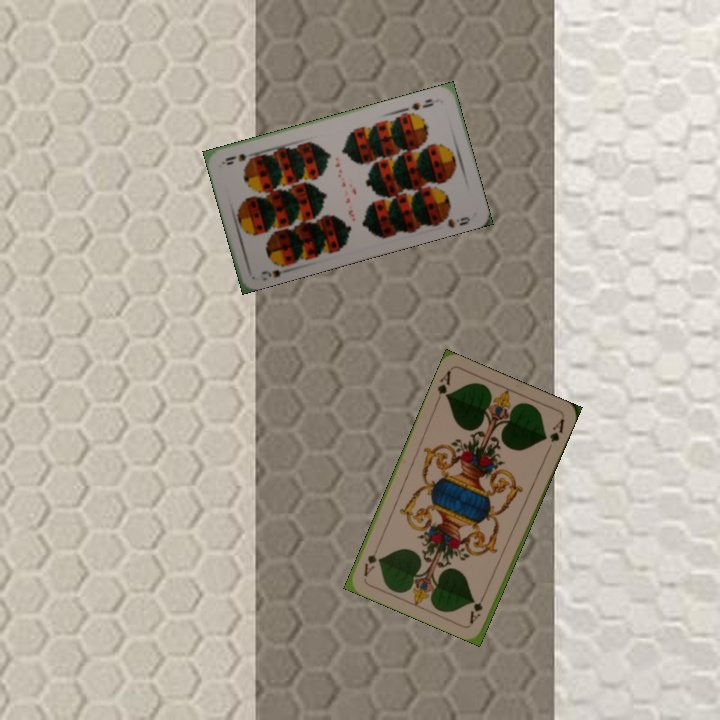GA: (466, 587, 489, 626), (432, 366, 454, 406)
S9: (257, 259, 293, 280), (407, 95, 436, 113)
